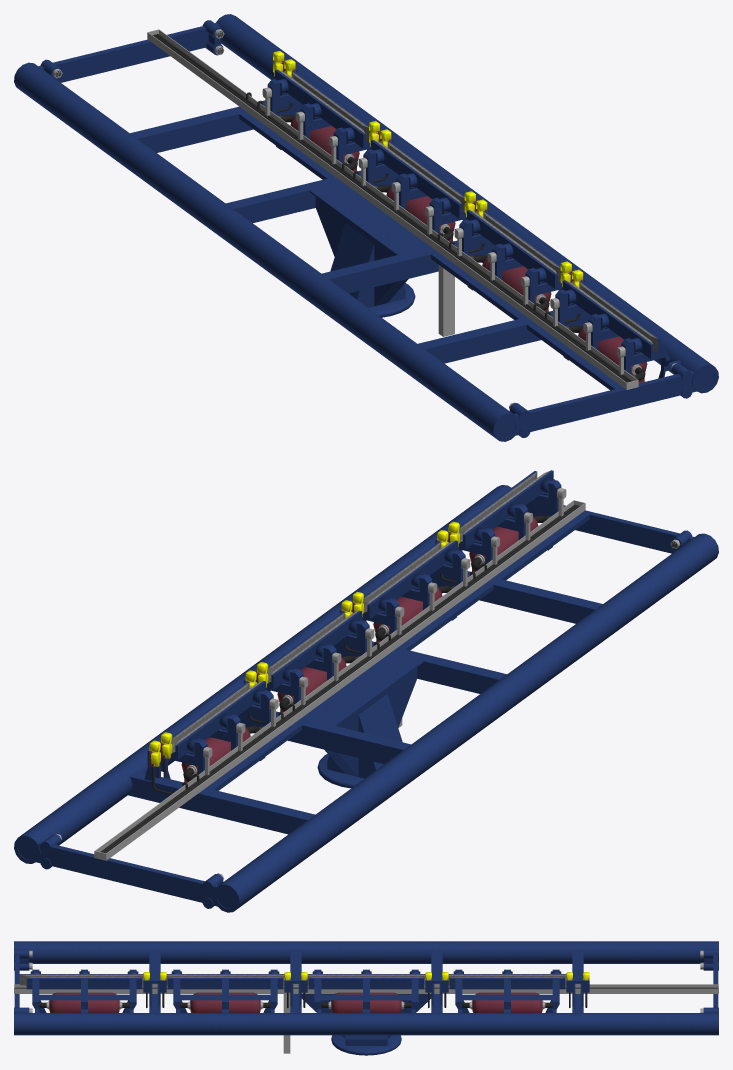
File: Block Section Standard (mirrored).dae
3 renders of one model, top to bottom at view 1: azimuth 30°, elevation 25°; view 2: azimuth 150°, elevation 25°; view 3: azimuth 270°, elevation 25°, orthographic. The views are drawn at different scales.
Visible parts, largest first — view 1: Track_8 (×7), Mid_Detail_1 (×6), Clamps (×4), High_Detail_3 (×3); view 2: Track_8 (×7), Mid_Detail_1 (×6), Clamps (×4), High_Detail_3 (×2); view 3: Track_8 (×10), Mid_Detail_1 (×10), Clamps (×4), High_Detail_3 (×5).
Part boxes in pixels (x1=…): Track_8 (×7): x1=14, y1=14, x2=718, y2=441; Mid_Detail_1 (×6): x1=147, y1=29, x2=681, y2=390; Clamps (×4): x1=275, y1=69, x2=653, y2=359; High_Detail_3 (×3): x1=152, y1=33, x2=632, y2=382; Track_8 (×7): x1=14, y1=485, x2=718, y2=912; Mid_Detail_1 (×6): x1=94, y1=471, x2=589, y2=860; Clamps (×4): x1=175, y1=470, x2=553, y2=759; High_Detail_3 (×2): x1=100, y1=504, x2=578, y2=852; Track_8 (×10): x1=14, y1=941, x2=718, y2=1055; Mid_Detail_1 (×10): x1=14, y1=969, x2=718, y2=1053; Clamps (×4): x1=19, y1=974, x2=566, y2=985; High_Detail_3 (×5): x1=14, y1=980, x2=718, y2=1009.
Size of the model in its own units: 53.48 by 197 by 27.99.
10 materials, 4 textured.
